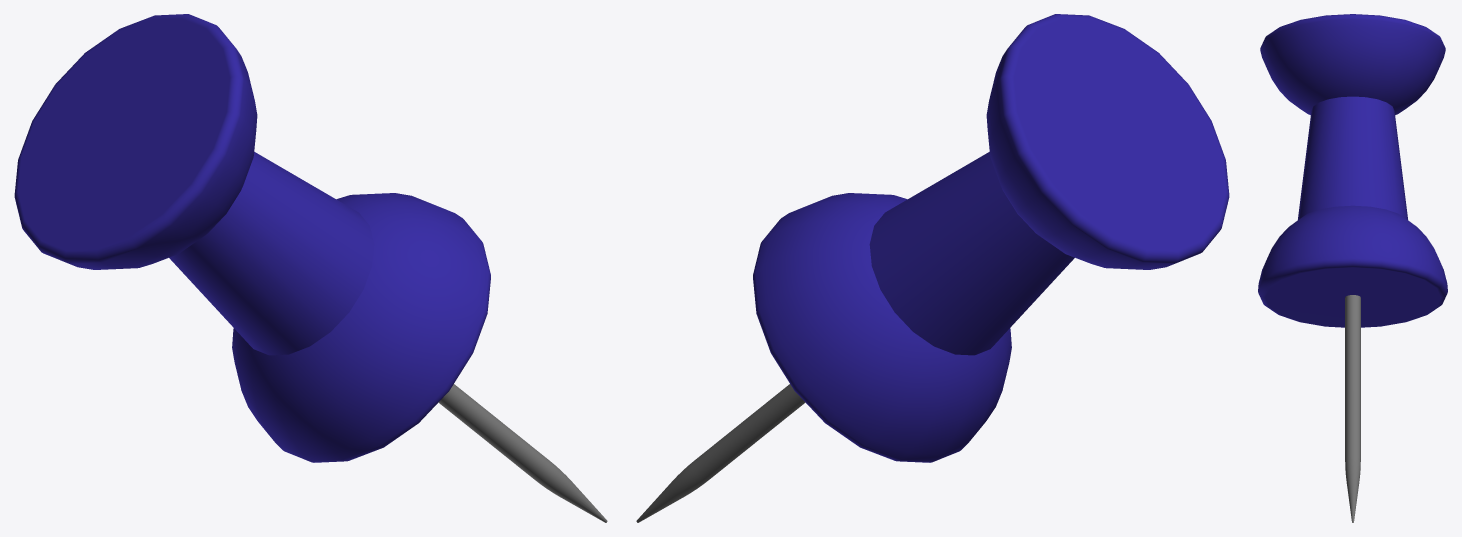
3 renders of one model, left to right at view 1: azimuth 30°, elevation 25°; view 2: azimuth 150°, elevation 25°; view 3: azimuth 270°, elevation 25°, orthographic. The views are drawn at different scales.
Parts seen in each view (by area): view 1: polySurface2, polySurface1; view 2: polySurface2, polySurface1; view 3: polySurface2, polySurface1.
Part boxes in pixels (box(x1,y1,x2,y2)): polySurface2: box(14, 14, 490, 462); polySurface1: box(438, 384, 607, 522); polySurface2: box(753, 14, 1229, 462); polySurface1: box(636, 384, 805, 522); polySurface2: box(1258, 14, 1447, 327); polySurface1: box(1345, 295, 1360, 522).
Size of the model in its own units: 2.69 by 2.69 by 1.21.
